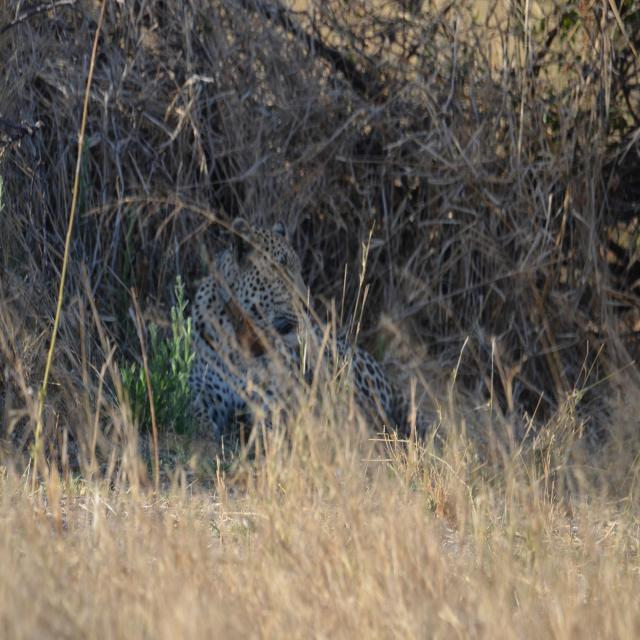Leopard: (176, 219, 450, 472)
